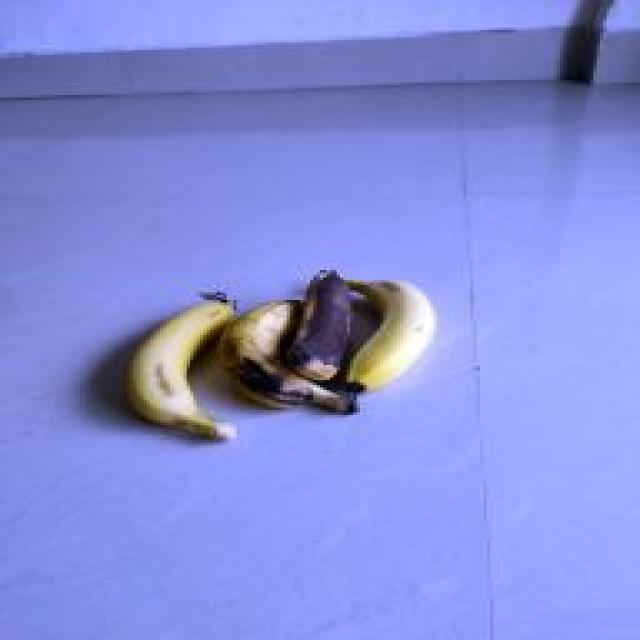Wet: (210, 295, 357, 417), (284, 262, 354, 388)
